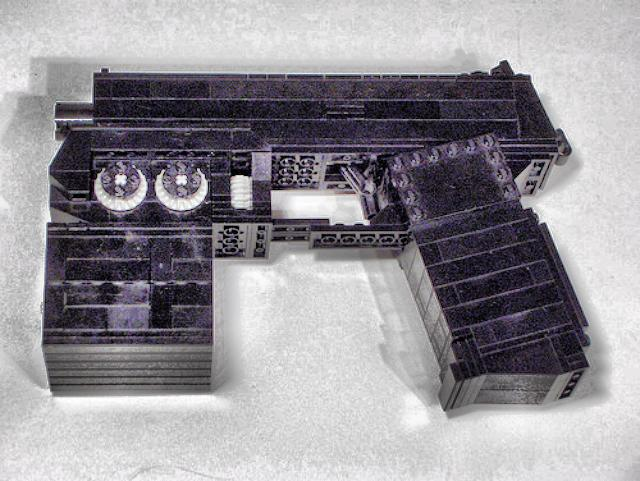pistol: (40, 60, 606, 412)
